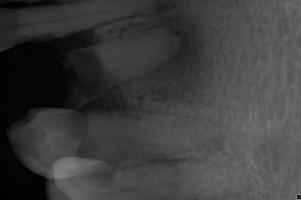Furcation Involvement: (143, 0, 204, 104)
